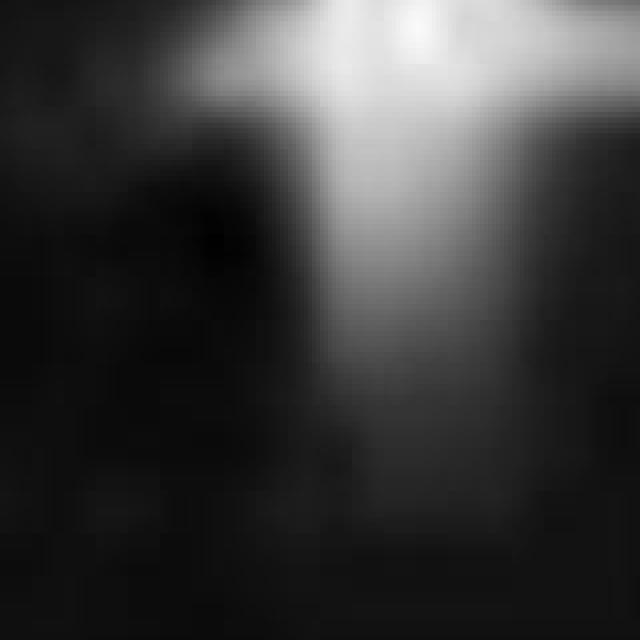person: (233, 1, 529, 486)
